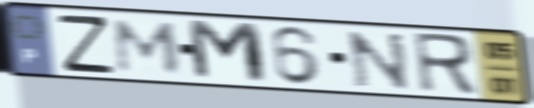6: (268, 23, 326, 88)
M: (183, 17, 273, 87), (112, 17, 184, 76)
N: (343, 29, 414, 93)
R: (409, 30, 481, 98)
Z: (53, 12, 118, 75)
